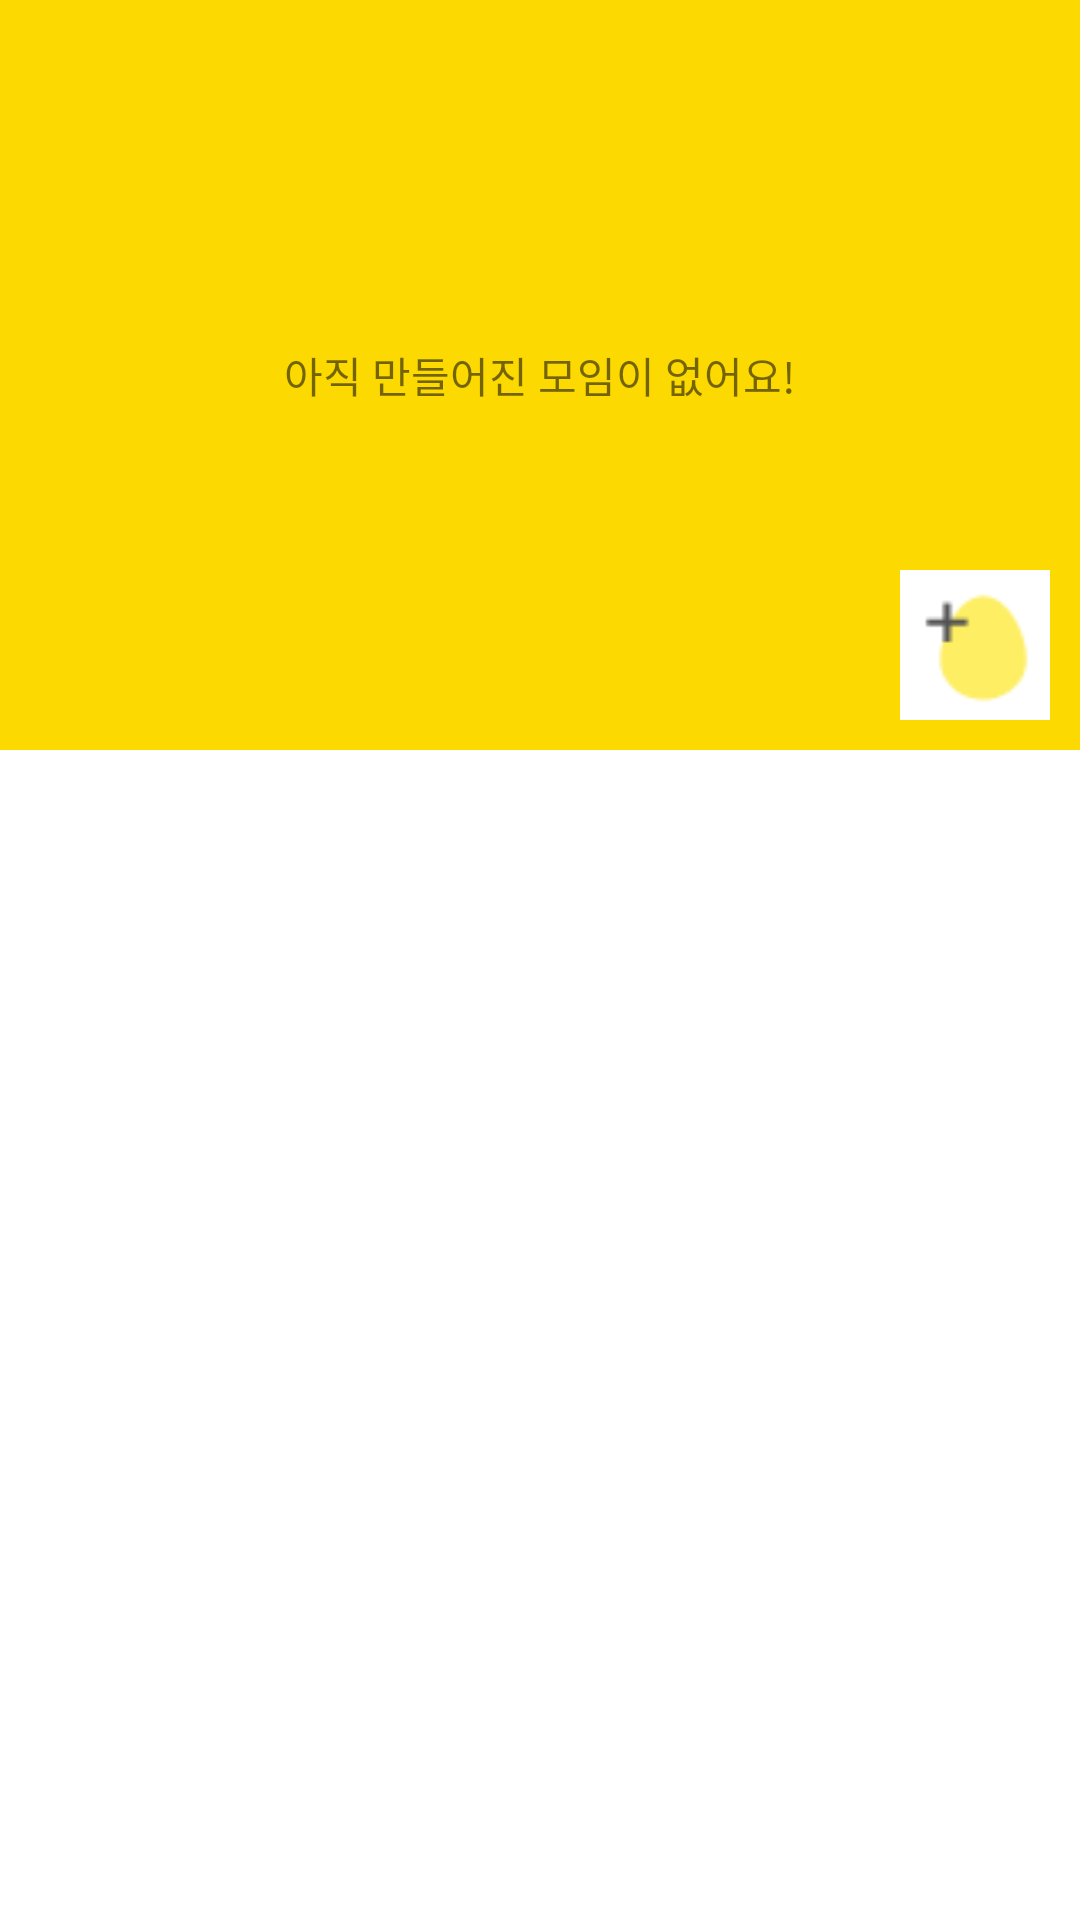

Icon bounding boxes for this 1080x1920 phone screenshot, format (x1, y1, x2, y2):
egg plus: (900, 570, 1050, 720)
